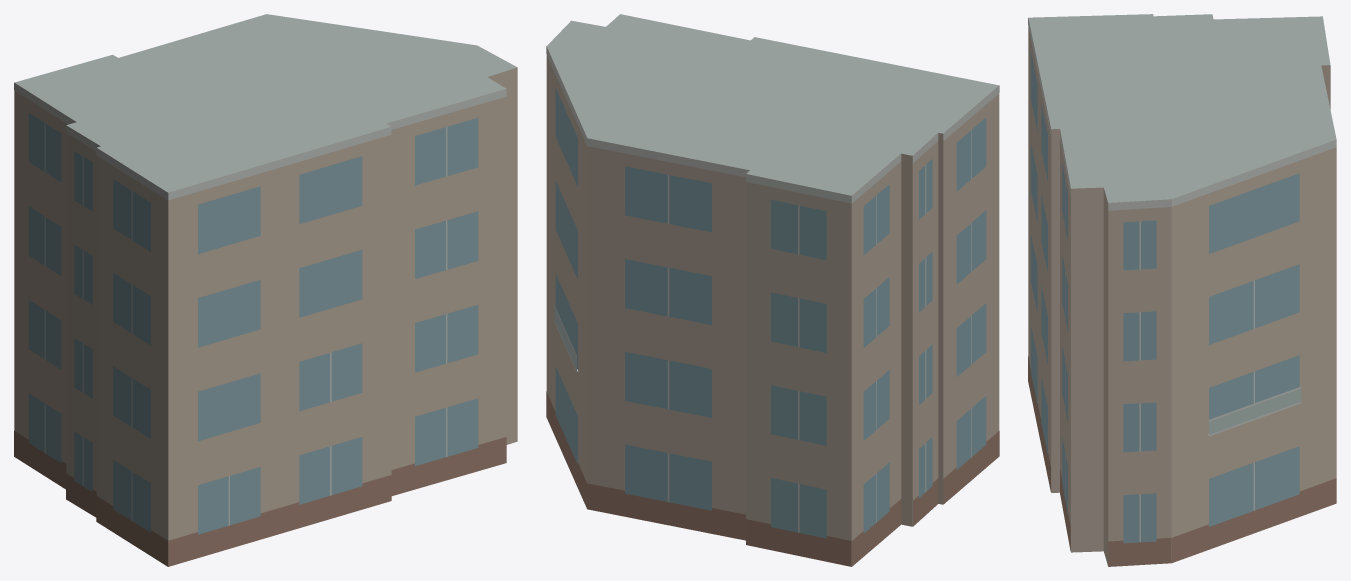
Rendered from survey-upis-32897883.glb.
3 views of the same model, side by side, from view 1: azimuth 30°, elevation 25°; view 2: azimuth 150°, elevation 25°; view 3: azimuth 270°, elevation 25° (orthographic). The views are drawn at different scales.
Parts seen in each view (by area): view 1: survey-upis-32897883.tmp; view 2: survey-upis-32897883.tmp; view 3: survey-upis-32897883.tmp.
Boxes of the visible parts, box(x1,y1,x2,y2) form: survey-upis-32897883.tmp: box(14, 14, 517, 566); survey-upis-32897883.tmp: box(546, 14, 999, 566); survey-upis-32897883.tmp: box(1028, 14, 1336, 566).
Size of the model in its own units: 12.93 by 11.6 by 8.92.
